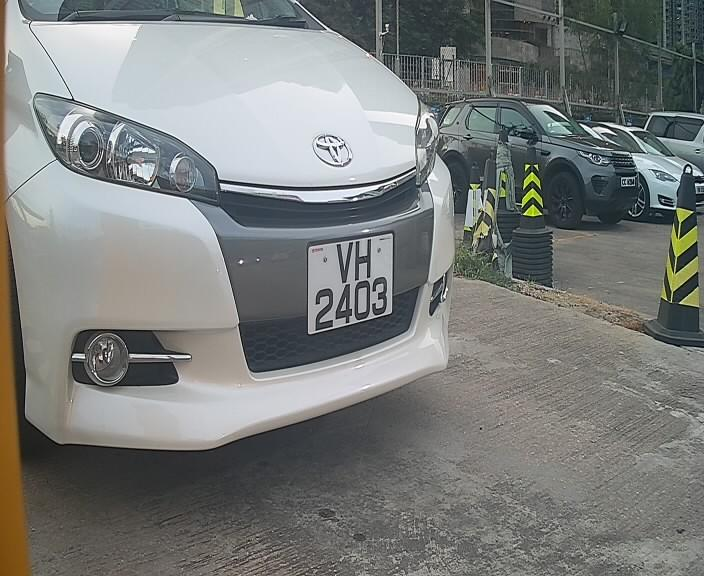License Plate: (305, 222, 403, 345)
